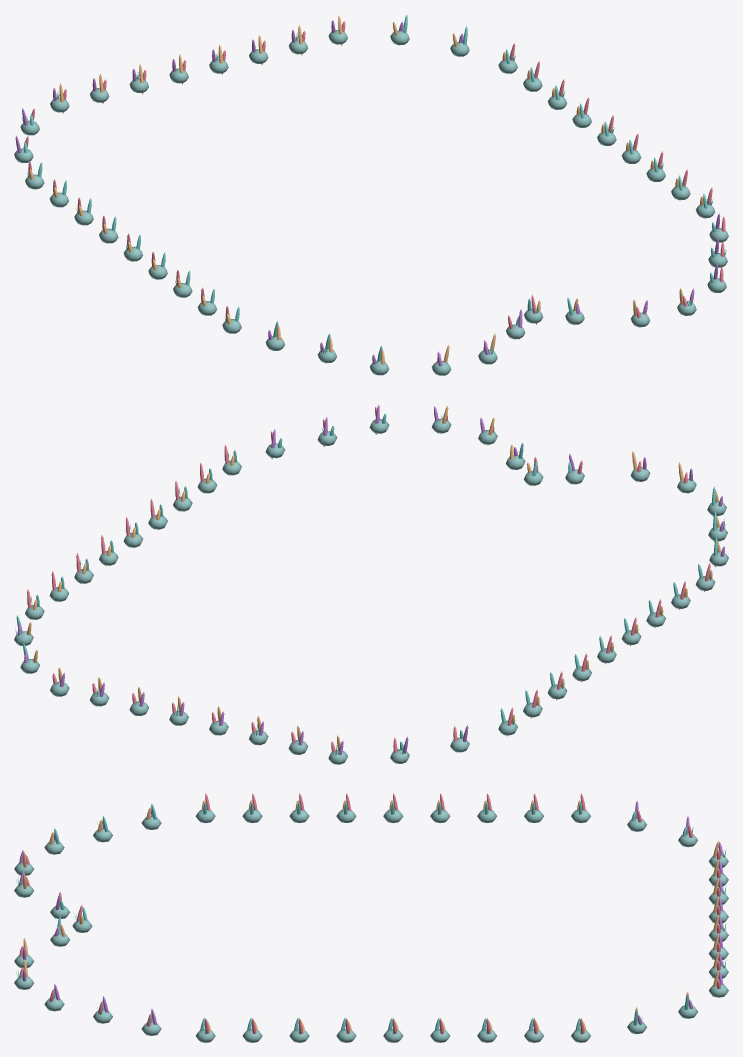
Rendered from reef-24-DmdCwLve.glb.
3 renders of one model, top to bottom at view 1: azimuth 30°, elevation 25°; view 2: azimuth 150°, elevation 25°; view 3: azimuth 270°, elevation 25°, orthographic. The views are drawn at different scales.
Parts seen in each view (by area): view 1: ReefRock, Coral2, Coral0, Coral3, Coral1; view 2: ReefRock, Coral0, Coral2, Coral3, Coral1; view 3: ReefRock, Coral0, Coral3, Coral2, Coral1.
Boxes of the visible parts, left/top/right/bottom form: ReefRock: left=14, top=30, right=728, bottom=375; Coral2: left=29, top=15, right=703, bottom=364; Coral0: left=25, top=21, right=725, bottom=362; Coral3: left=23, top=14, right=715, bottom=361; Coral1: left=15, top=20, right=720, bottom=366; ReefRock: left=14, top=418, right=728, bottom=764; Coral0: left=27, top=407, right=710, bottom=752; Coral2: left=27, top=406, right=720, bottom=750; Coral3: left=16, top=413, right=717, bottom=750; Coral1: left=18, top=404, right=724, bottom=755; ReefRock: left=14, top=810, right=728, bottom=1042; Coral0: left=19, top=793, right=720, bottom=1042; Coral3: left=54, top=802, right=688, bottom=1033; Coral2: left=23, top=800, right=718, bottom=1030; Coral1: left=19, top=800, right=723, bottom=1034.
Size of the model in its own units: 37 by 2.06 by 49.1.
